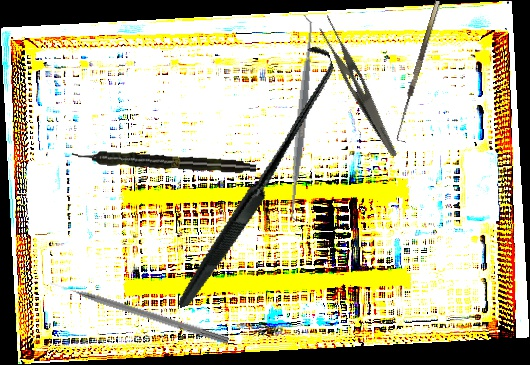Dressing Forceps: (309, 13, 412, 159)
Handpiece: (71, 147, 257, 176)
Hook Surgical: (116, 43, 390, 308), (393, 0, 448, 143)
Pusher: (49, 277, 230, 345)
Spatula Surgical: (278, 14, 324, 223)
